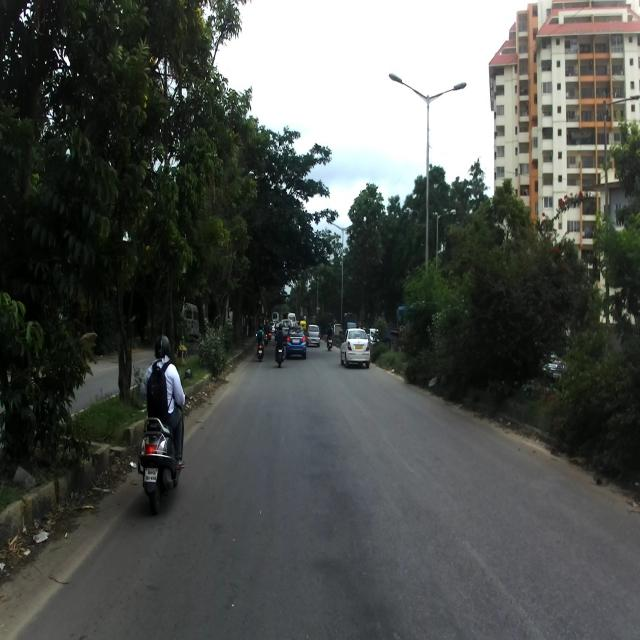Car_Honda: (285, 324, 307, 360)
Car_TATA: (339, 326, 370, 368)
scooter: (128, 366, 194, 516)
